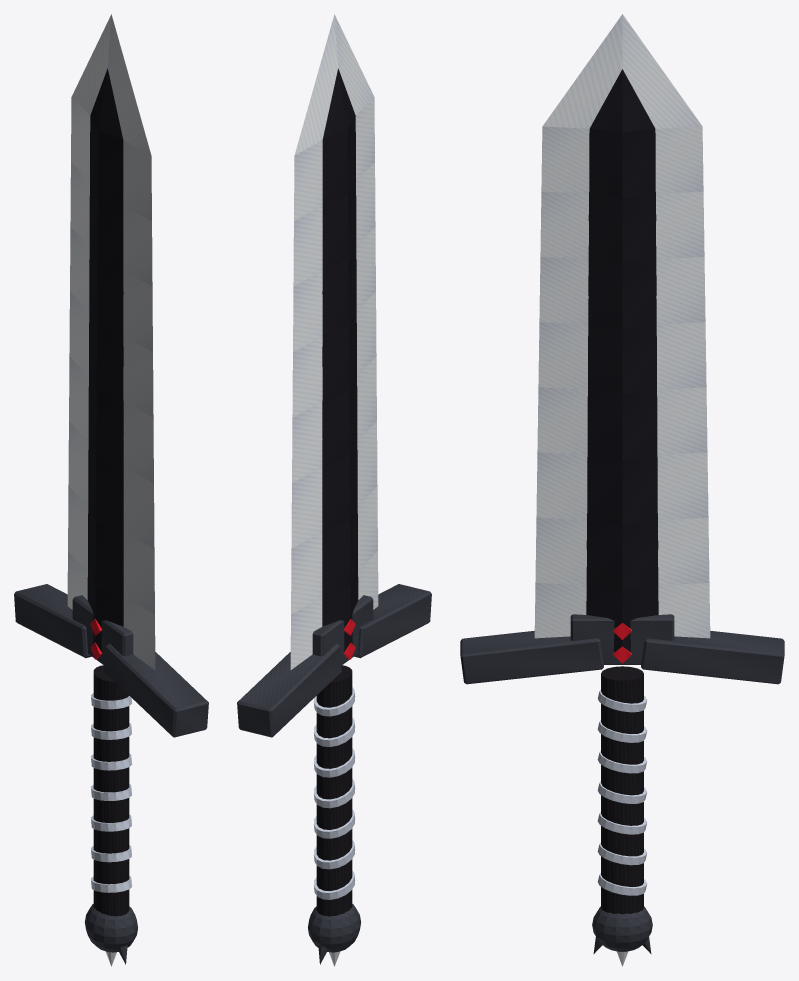
File: Greatsword.obj
3 renders of one model, left to right at view 1: azimuth 30°, elevation 25°; view 2: azimuth 150°, elevation 25°; view 3: azimuth 270°, elevation 25°, orthographic.
Parts seen in each view (by area): view 1: Greatsword; view 2: Greatsword; view 3: Greatsword.
Part boxes in pixels (box(x1,y1,x2,y2)): Greatsword: box(14, 14, 208, 966); Greatsword: box(237, 14, 431, 966); Greatsword: box(460, 14, 784, 966).
Bounding box in the file's own units: 0.4401 × 9.32 × 2.87.
Materials: 1 (1 with a texture image).
